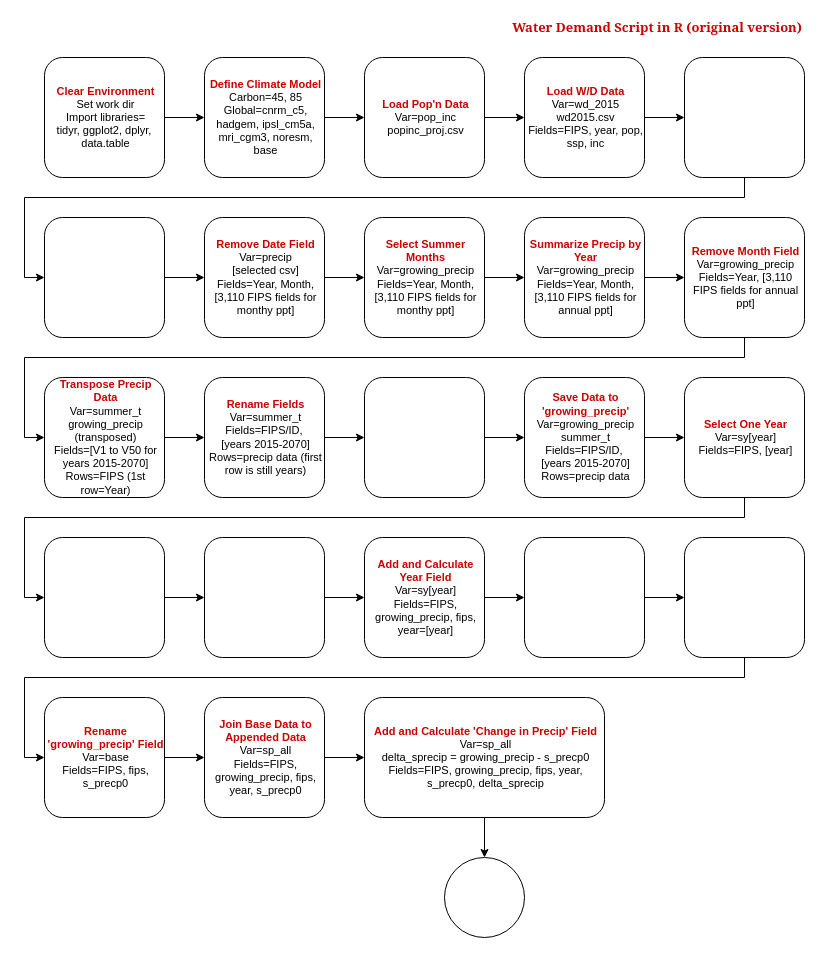
Image size: 822x955. Some labels were removed from this diagram. Each missing label, with the centre of its shape:
"Add and Calculate FIPS Field Var=sy[year] Fields=FIPS, growing_precip, fips=FIPS" goes at point (264, 597).
"Append Tables Var=sp_all Fields=FIPS, growing_precip, fips, year" goes at point (584, 597).
"Choose Common Variables Var=ew Fields=fips, EastWest, DP.growth, DP.decay" goes at point (744, 117).
"Create 'Base' Data from 2015 Var=base Fields=FIPS, fips, growing_precip" goes at point (744, 597).
"End Script" goes at point (484, 897).
"Load Precip Data Var=precip Select csv based on settins for Climate Models" goes at point (104, 277).
"Remove First Row Var=summer_t Fields=FIPS/ID, [years 2015-2070] Rows=precip data" goes at point (424, 437).
"Rename Year Field Var=sy[year] Fields=FIPS, growing_precip" goes at point (104, 597).
